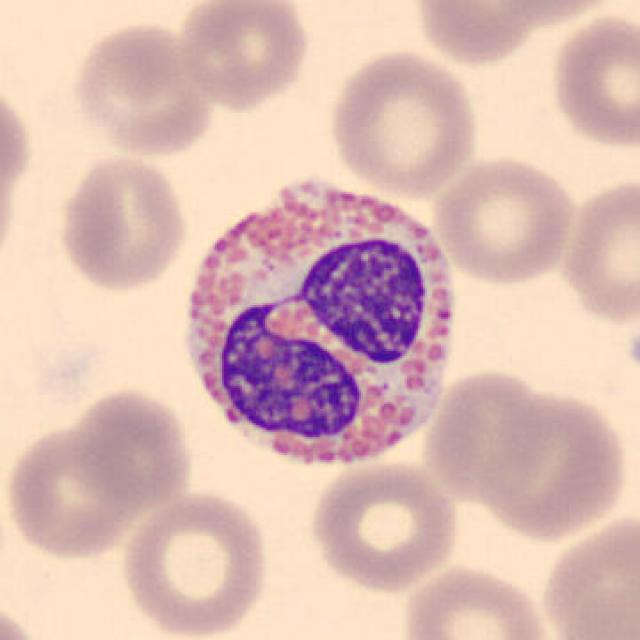Eosinophil: (162, 155, 471, 492)
RBC: (2, 404, 164, 564), (471, 384, 631, 543), (324, 46, 484, 199), (115, 487, 274, 638), (306, 457, 464, 596), (428, 150, 580, 287), (69, 19, 215, 159), (54, 150, 190, 296), (422, 365, 558, 504), (68, 384, 198, 510), (174, 0, 313, 113), (535, 510, 638, 638), (546, 10, 638, 152), (396, 560, 558, 640), (555, 173, 638, 328), (409, 0, 546, 67), (412, 0, 622, 42), (0, 74, 36, 275), (487, 0, 628, 28), (0, 594, 46, 640)
